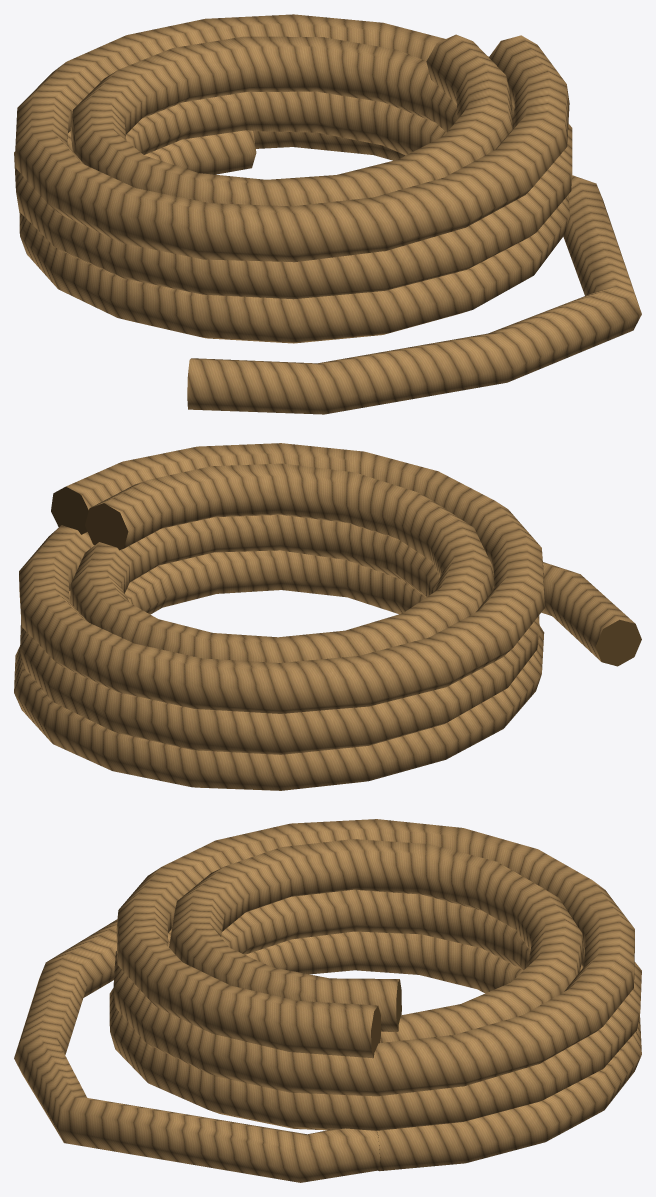
Rendered from Rope_Coil.glb.
3 renders of one model, top to bottom at view 1: azimuth 30°, elevation 25°; view 2: azimuth 150°, elevation 25°; view 3: azimuth 270°, elevation 25°, orthographic. The views are drawn at different scales.
Visible parts, largest first — view 1: Rope_Coil; view 2: Rope_Coil; view 3: Rope_Coil.
Boxes of the visible parts, x1,y1,x2,y2 form: Rope_Coil: (14,14,641,414); Rope_Coil: (14,443,641,790); Rope_Coil: (14,819,641,1182).
Size of the model in its own units: 0.9403 by 0.3064 by 1.05.
Materials: 1 (1 with a texture image).
